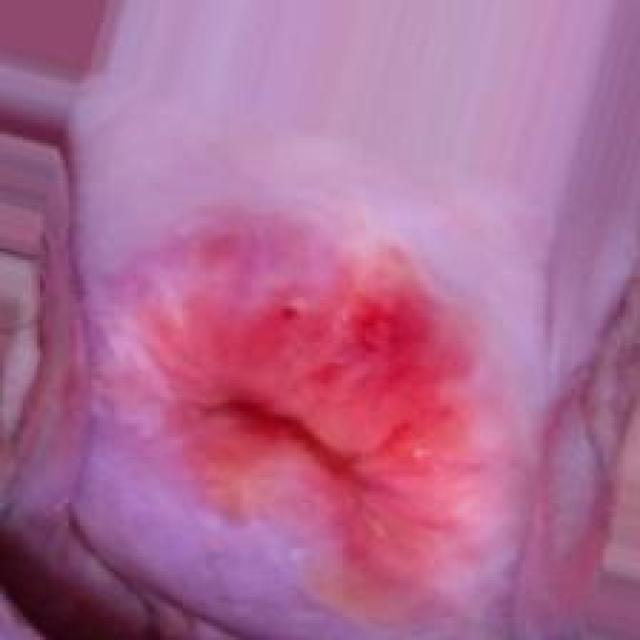type-1: (0, 136, 569, 640)
